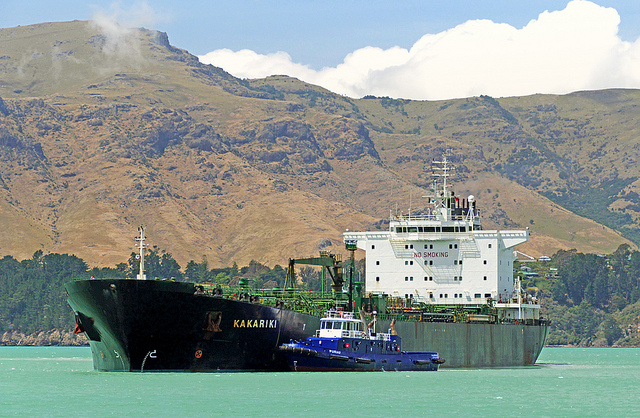tanker: (68, 164, 571, 374)
tug_boat: (284, 285, 449, 370)
